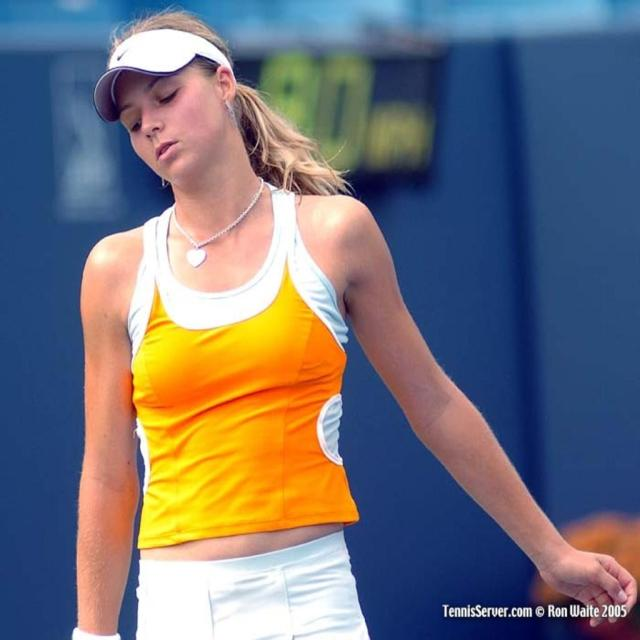Face: (106, 26, 229, 197)
